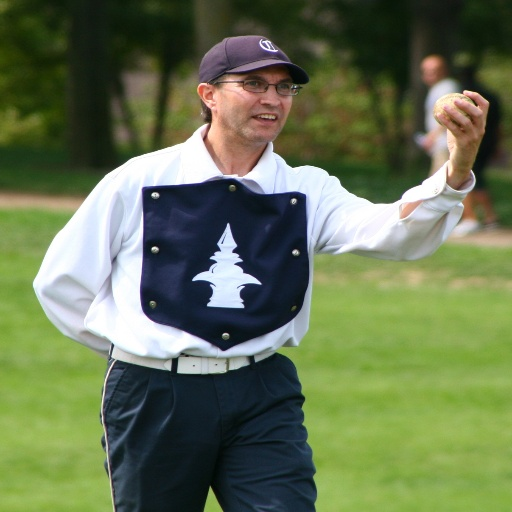hand: (421, 74, 512, 185)
